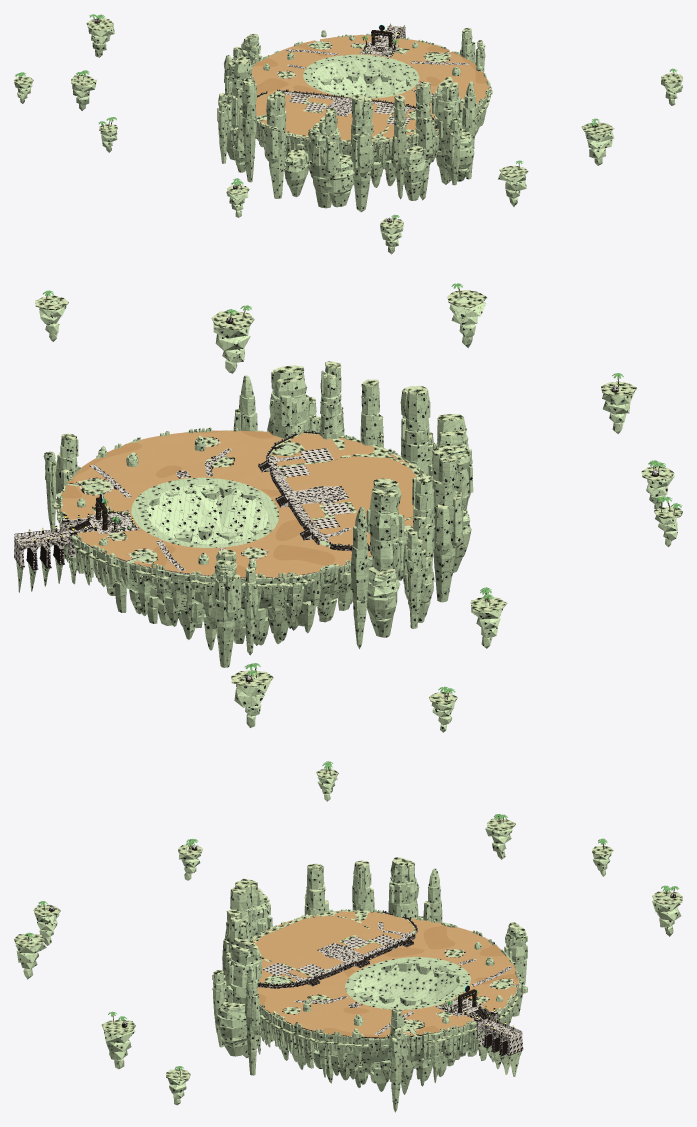
The model's file is ILHA2_02_TERRAIN_94f9d4.fbx.
3 renders of one model, top to bottom at view 1: azimuth 30°, elevation 25°; view 2: azimuth 150°, elevation 25°; view 3: azimuth 270°, elevation 25°, orthographic. The views are drawn at different scales.
Parts seen in each view (by area): view 1: DB_Ter_MesasBack__Cliff_Rock_DB, DB_Ter_Underside__Cliff_Rock_DB_Dark_g12_10, DB_Ter_MesasNW__Cliff_Rock_DB, DB_Ter_MesasBack__Cliff_Rock_DB_Dark, DB_Ter_MesasNW__Cliff_Rock_DB_Dark, DB_Ter_MesasNE__Cliff_Rock_DB, DB_Sky_Islets__Cliff_Rock_DB_C, DB_Ter_HubTop__Sand_DB_g12_9, DB_Sky_Islets__Grass_DB, DB_Sky_Islets__Cliff_Rock_DB_Dark, DB_Ter_MesasNW__Cliff_Rock_DB_B, DB_Ter_Ground__Sand_DB_B (+20 smaller); view 2: DB_Ter_Underside__Cliff_Rock_DB_Dark_g12_10, DB_Ter_MesasNE__Cliff_Rock_DB, DB_Ter_HubTop__Sand_DB_g12_9, DB_Ter_MesasBack__Cliff_Rock_DB, DB_Ter_MesasNE__Cliff_Rock_DB_Dark, DB_Ter_Ground__Sand_DB_g14_9, DB_Sky_Islets__Cliff_Rock_DB_C, DB_Sky_Islets__Grass_DB, DB_Ter_Underside__Cliff_Rock_DB, DB_Ter_Ground__Sand_DB_B, DB_Sky_Islets__Cliff_Rock_DB_Dark, DB_Ter_Ground__Sand_DB_g12_10 (+31 smaller); view 3: DB_Ter_Underside__Cliff_Rock_DB_Dark_g12_10, DB_Ter_HubTop__Sand_DB_g12_9, DB_Ter_Ground__Sand_DB_g14_9, DB_Sky_Islets__Cliff_Rock_DB_C, DB_Sky_Islets__Grass_DB, DB_Ter_Ground__Sand_DB_g12_10, DB_Ter_MesasNW__Cliff_Rock_DB, DB_Sky_Islets__Cliff_Rock_DB_Dark, DB_Ter_Ground__Sand_DB_B, DB_Ter_MesasNE__Cliff_Rock_DB, DB_Ter_MesasNW__Cliff_Rock_DB_Dark, DB_Ter_Ground__Sand_DB_g13_9 (+26 smaller).
Boxes of the visible parts, x1,y1,x2,y2 form: DB_Ter_MesasBack__Cliff_Rock_DB: (266, 96, 373, 192); DB_Ter_Underside__Cliff_Rock_DB_Dark_g12_10: (303, 41, 445, 187); DB_Ter_MesasNW__Cliff_Rock_DB: (391, 81, 475, 187); DB_Ter_MesasBack__Cliff_Rock_DB_Dark: (265, 123, 374, 212); DB_Ter_MesasNW__Cliff_Rock_DB_Dark: (392, 94, 477, 200); DB_Ter_MesasNE__Cliff_Rock_DB: (217, 58, 256, 159); DB_Sky_Islets__Cliff_Rock_DB_C: (14, 23, 681, 247); DB_Ter_HubTop__Sand_DB_g12_9: (256, 92, 393, 142); DB_Sky_Islets__Grass_DB: (14, 18, 682, 228); DB_Sky_Islets__Cliff_Rock_DB_Dark: (17, 34, 682, 254); DB_Ter_MesasNW__Cliff_Rock_DB_B: (396, 83, 476, 165); DB_Ter_Ground__Sand_DB_B: (254, 42, 487, 144); DB_Ter_Underside__Cliff_Rock_DB_Dark_g12_10: (67, 445, 352, 650); DB_Ter_MesasNE__Cliff_Rock_DB: (352, 480, 434, 619); DB_Ter_HubTop__Sand_DB_g12_9: (302, 445, 420, 546); DB_Ter_MesasBack__Cliff_Rock_DB: (402, 393, 472, 558); DB_Ter_MesasNE__Cliff_Rock_DB_Dark: (351, 478, 435, 649); DB_Ter_Ground__Sand_DB_g14_9: (88, 430, 283, 485); DB_Sky_Islets__Cliff_Rock_DB_C: (39, 296, 677, 725); DB_Sky_Islets__Grass_DB: (35, 290, 682, 704); DB_Ter_Underside__Cliff_Rock_DB: (84, 487, 353, 640); DB_Ter_Ground__Sand_DB_B: (61, 430, 335, 577); DB_Sky_Islets__Cliff_Rock_DB_Dark: (39, 310, 677, 732); DB_Ter_Ground__Sand_DB_g12_10: (201, 504, 371, 577); DB_Ter_Underside__Cliff_Rock_DB_Dark_g12_10: (270, 930, 517, 1094); DB_Ter_HubTop__Sand_DB_g12_9: (252, 910, 415, 963); DB_Ter_Ground__Sand_DB_g14_9: (257, 987, 385, 1036); DB_Sky_Islets__Cliff_Rock_DB_C: (15, 773, 680, 1098); DB_Sky_Islets__Grass_DB: (14, 768, 682, 1080); DB_Ter_Ground__Sand_DB_g12_10: (367, 918, 509, 966); DB_Ter_MesasNW__Cliff_Rock_DB: (213, 914, 259, 1041); DB_Sky_Islets__Cliff_Rock_DB_Dark: (16, 781, 681, 1105); DB_Ter_Ground__Sand_DB_B: (258, 925, 518, 1037); DB_Ter_MesasNE__Cliff_Rock_DB: (352, 864, 440, 921); DB_Ter_MesasNW__Cliff_Rock_DB_Dark: (212, 921, 261, 1075); DB_Ter_Ground__Sand_DB_g13_9: (275, 961, 378, 1007).
Bounding box in the file's own units: 800 × 212 × 792.
13 materials, 7 textured.
